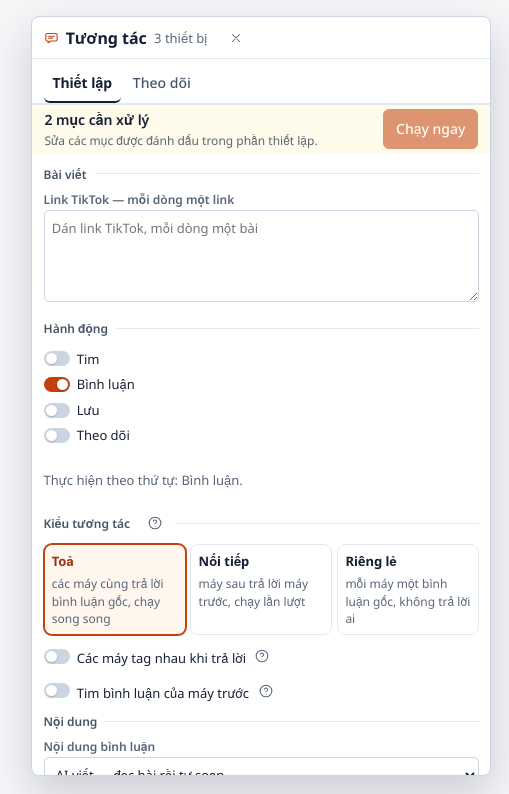
InteractionPopup › keeps the newest preview and run gate when an older preview resolves last
Type "https://www.tiktok.com/@creator/video/123" into the text box labelled "Link TikTok — mỗi dòng một link". click: (261, 256)
box: [44,210,479,302]
(page scrolled)
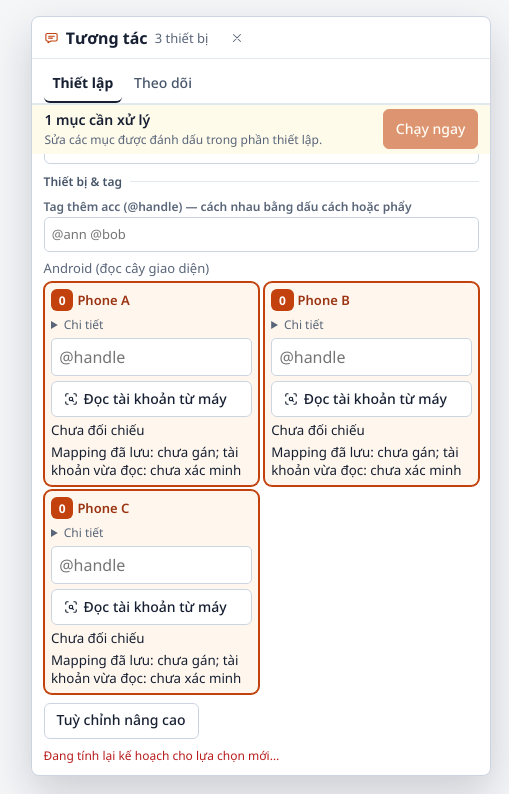
Click the checkbox labelled "Phone C". click: (90, 508)
box: [51,497,129,519]
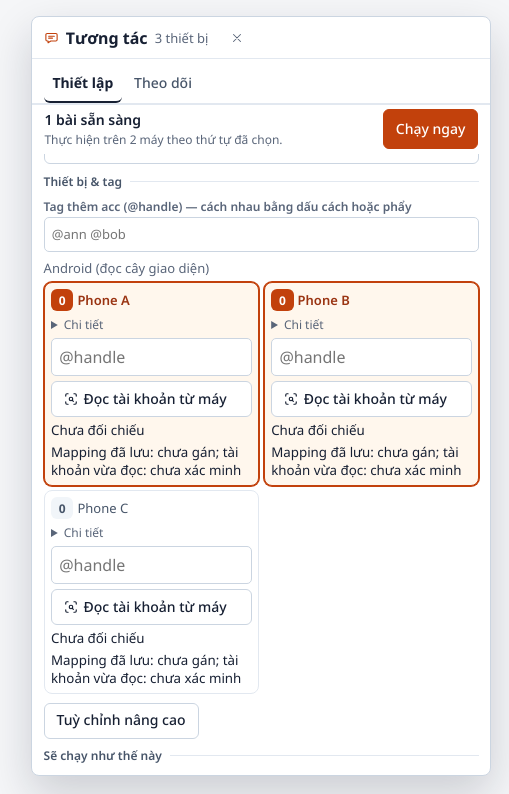
Check: the button "Chạy ngay" is enabled, box [383,109,478,149]
Check: the text "Đang tính lại kế hoạch" is gone
